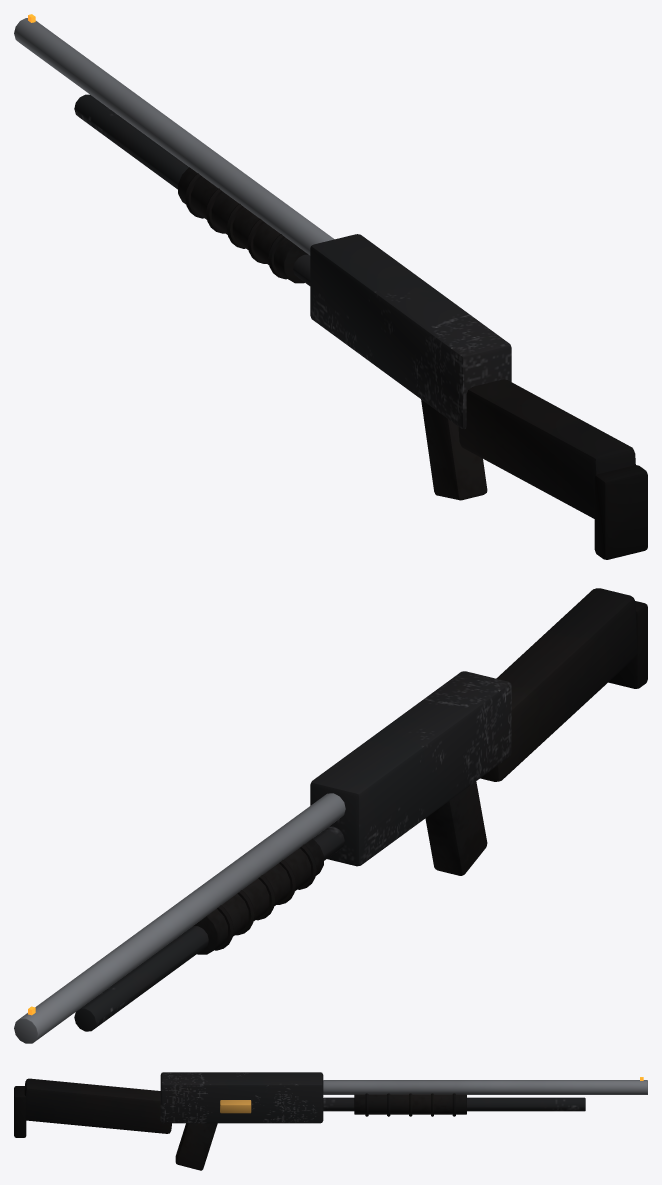
File: shotgun.glb
3 views of the same model, one above another, from view 1: azimuth 30°, elevation 25°; view 2: azimuth 150°, elevation 25°; view 3: azimuth 270°, elevation 25° (orthographic). The views are drawn at different scales.
Parts seen in each view (by area): view 1: shotgun; view 2: shotgun; view 3: shotgun.
Boxes of the visible parts, x1,y1,x2,y2 form: shotgun: (14, 14, 647, 559); shotgun: (14, 588, 647, 1043); shotgun: (14, 1072, 647, 1170).
Size of the model in its own units: 0.069 by 0.1589 by 1.01.
1 material, 1 textured.
